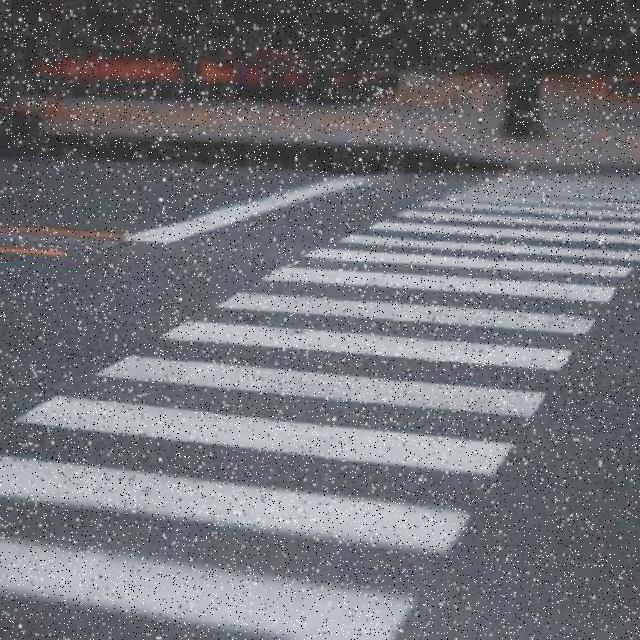Pedestrian crosswalk: (0, 166, 640, 640)
